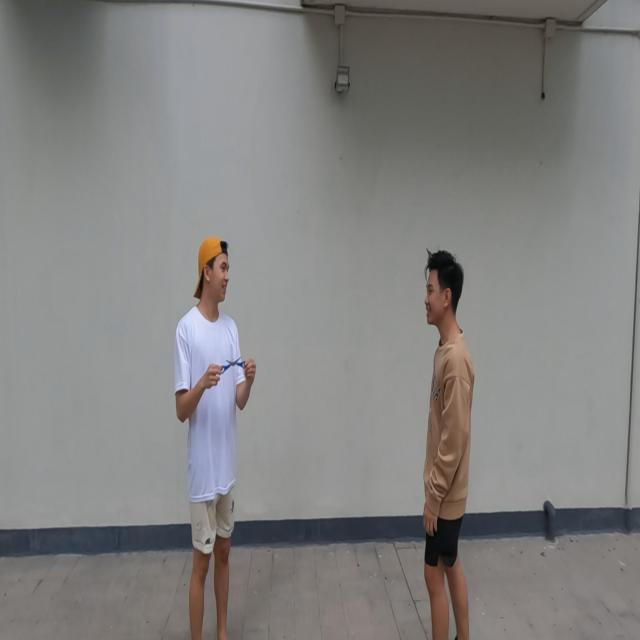scissor: (220, 355, 250, 374)
